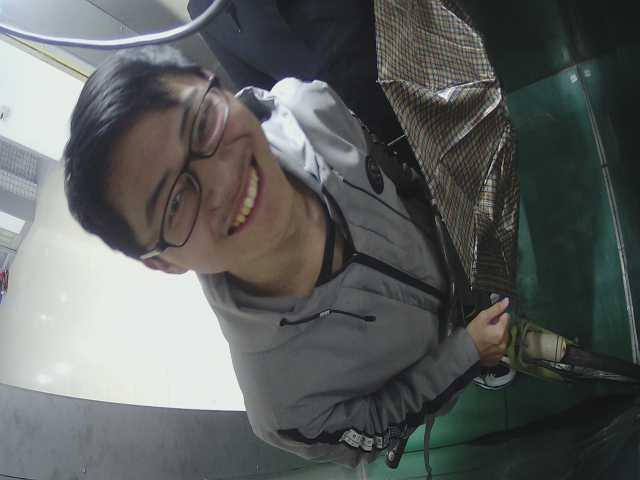bicycle: (464, 268, 630, 398)
person: (73, 61, 498, 455)
